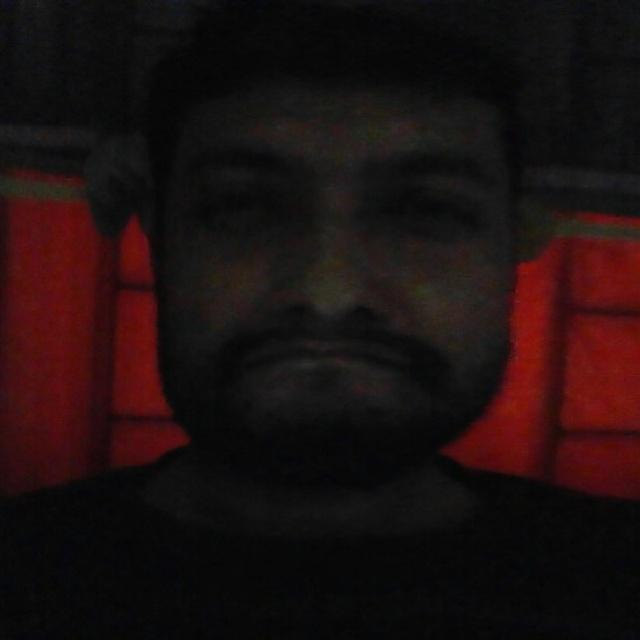Sad: (107, 130, 557, 530)
